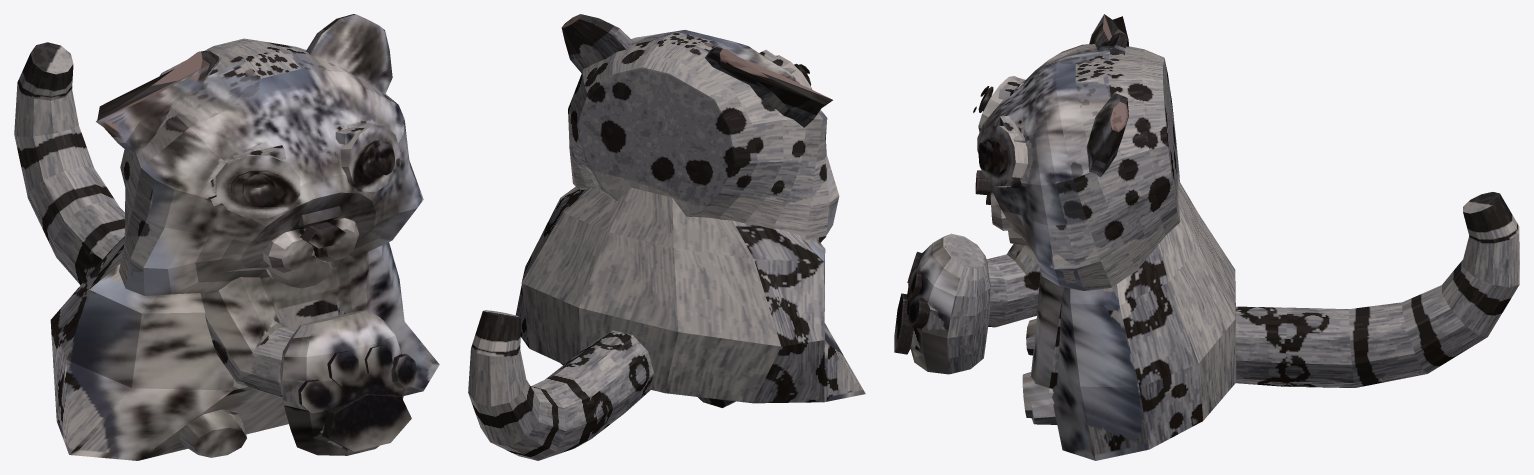
File: snow_leopard_cub_photo.obj
3 views of the same model, side by side, from view 1: azimuth 30°, elevation 25°; view 2: azimuth 150°, elevation 25°; view 3: azimuth 270°, elevation 25° (orthographic). The views are drawn at different scales.
Parts seen in each view (by area): view 1: head, body, paw, arm, ear_r, ear, pad_main, tail_3, tail_2, tail_4, eye_ring_r, tail_6 (+17 smaller); view 2: body, head, ear_r, tail_1, tail_5, ear, tail_2, tail_4, tail_0, tail_3, tail_6; view 3: head, body, paw, tail_1, tail_2, tail_0, tail_3, arm, tail_4, front_leg, tail_5, ear (+5 smaller).
Part boxes in pixels (x1,y1,x2,y2): head: (119, 38, 423, 295); body: (50, 236, 439, 460); paw: (280, 310, 405, 455); arm: (200, 277, 296, 397); ear_r: (96, 50, 221, 155); ear: (306, 14, 392, 93); pad_main: (322, 393, 411, 451); tail_3: (28, 166, 119, 256); tail_2: (53, 201, 124, 284); tail_4: (14, 125, 93, 197); eye_ring_r: (215, 154, 300, 218); tail_6: (17, 42, 73, 100); body: (516, 186, 865, 403); head: (568, 30, 839, 240); ear_r: (705, 47, 832, 127); tail_1: (545, 350, 630, 438); tail_5: (468, 348, 526, 406); ear: (561, 14, 634, 73); tail_2: (531, 374, 598, 460); tail_4: (468, 380, 539, 446); tail_0: (572, 330, 653, 412); tail_3: (491, 386, 565, 460); tail_6: (471, 310, 521, 356); head: (977, 44, 1180, 290); body: (1040, 179, 1236, 460); paw: (907, 233, 990, 374); tail_1: (1284, 307, 1354, 387); tail_2: (1349, 302, 1427, 387); tail_0: (1235, 306, 1286, 386); tail_3: (1402, 285, 1487, 373); arm: (986, 244, 1039, 327); tail_4: (1442, 259, 1519, 336); front_leg: (1031, 272, 1063, 388); tail_5: (1463, 233, 1519, 287); ear: (1086, 93, 1128, 176).
Size of the model in its own units: 23.62 by 22.17 by 37.67.
1 material, 1 textured.
